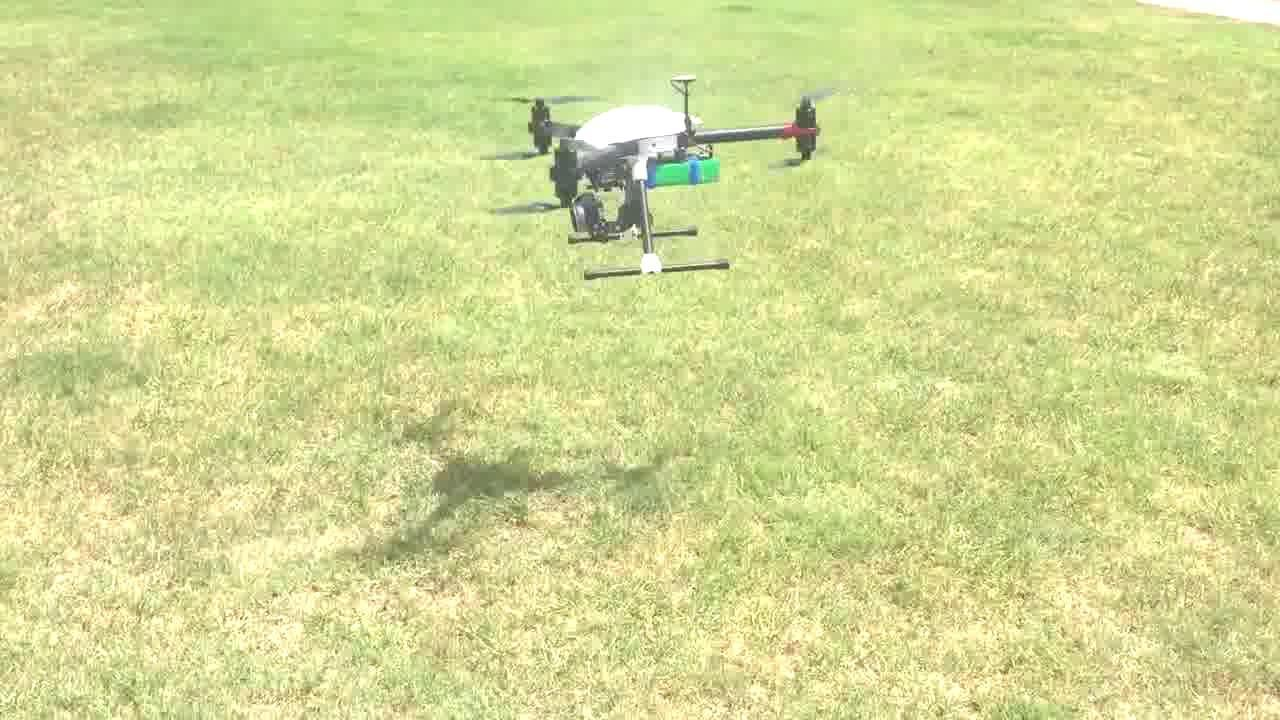drone: (487, 76, 843, 285)
